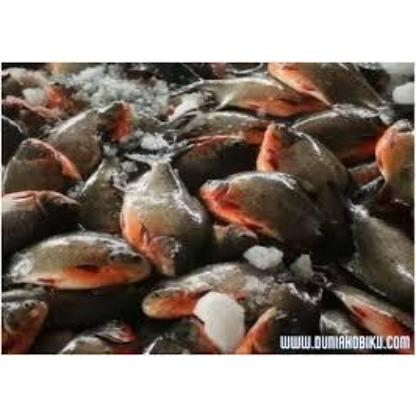ikan-pacu: (124, 158, 206, 266), (202, 171, 318, 247), (9, 230, 149, 288)
